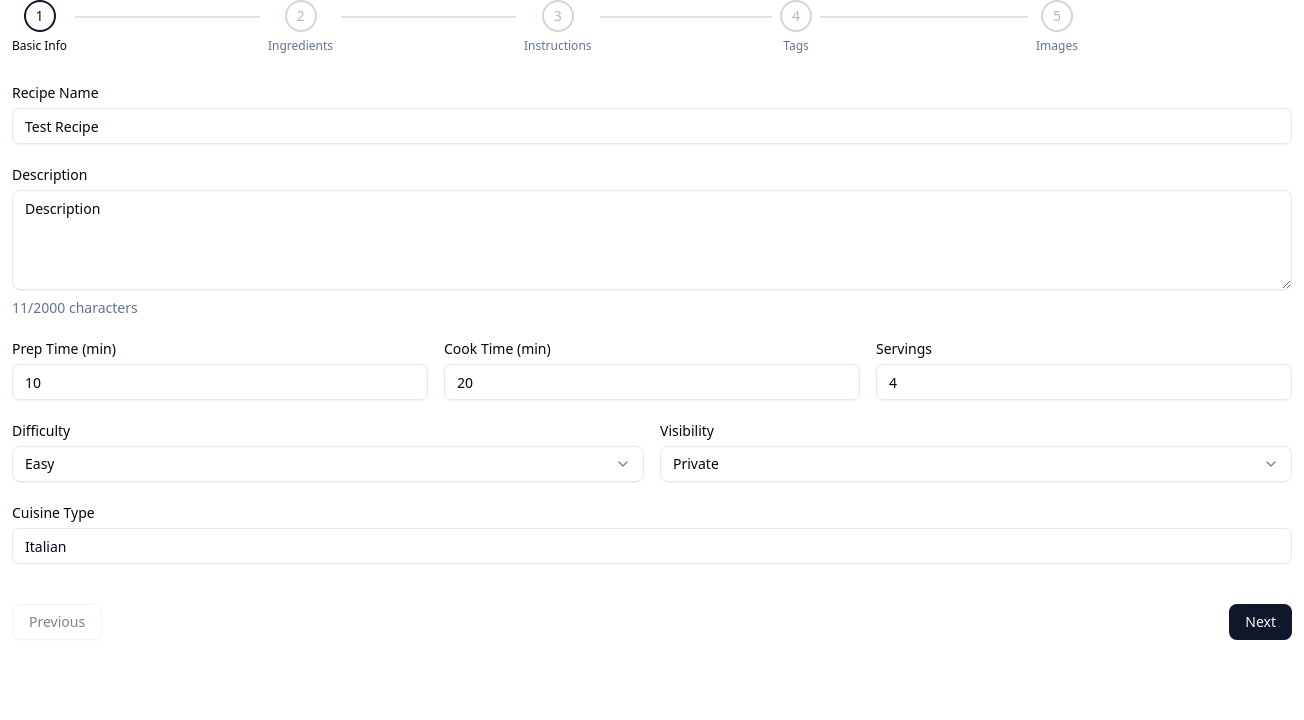
Scenario: RecipeFormWizard › can navigate back with Previous button
The image size is (1304, 720).
Note: Navigate to step 2
Click the button "Next" at [1261, 622], box 1229,604 -> 1292,640
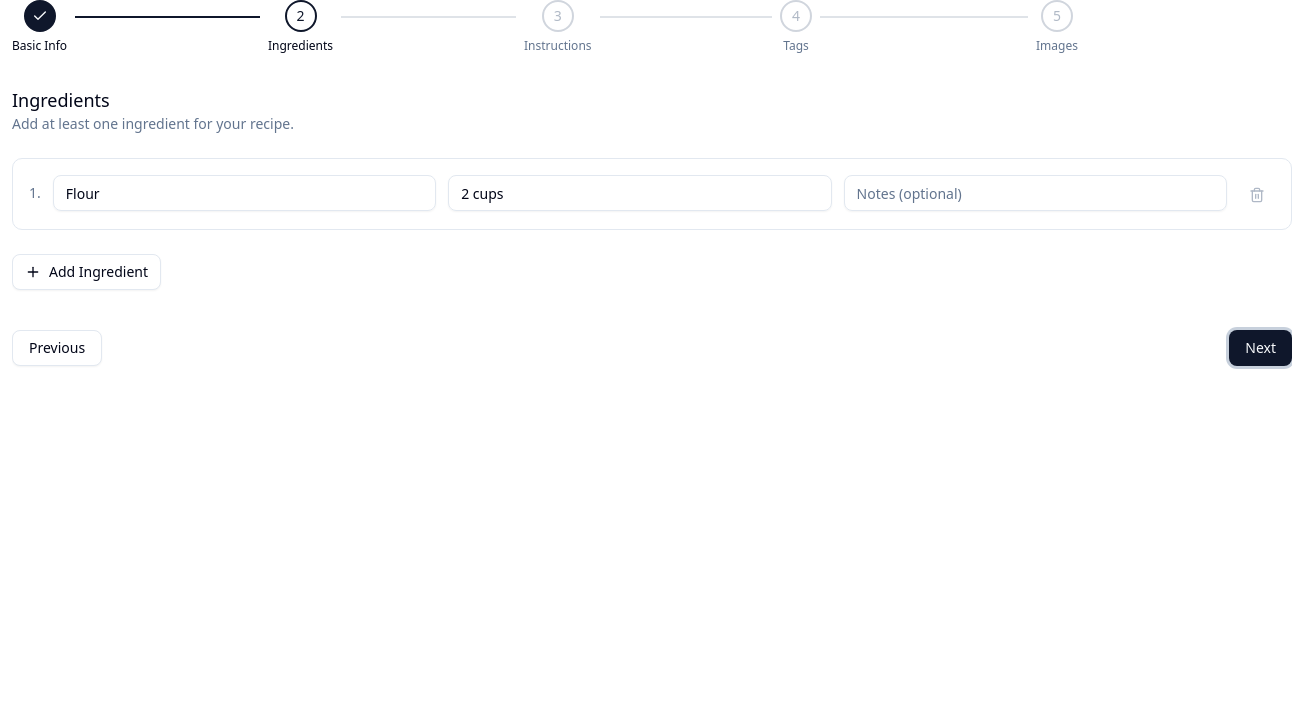
expect the button "Add Ingredient" is shown: met, box 12,254 -> 161,290
Note: Navigate back
Click the button "Previous" at [57, 348], box 12,330 -> 102,366
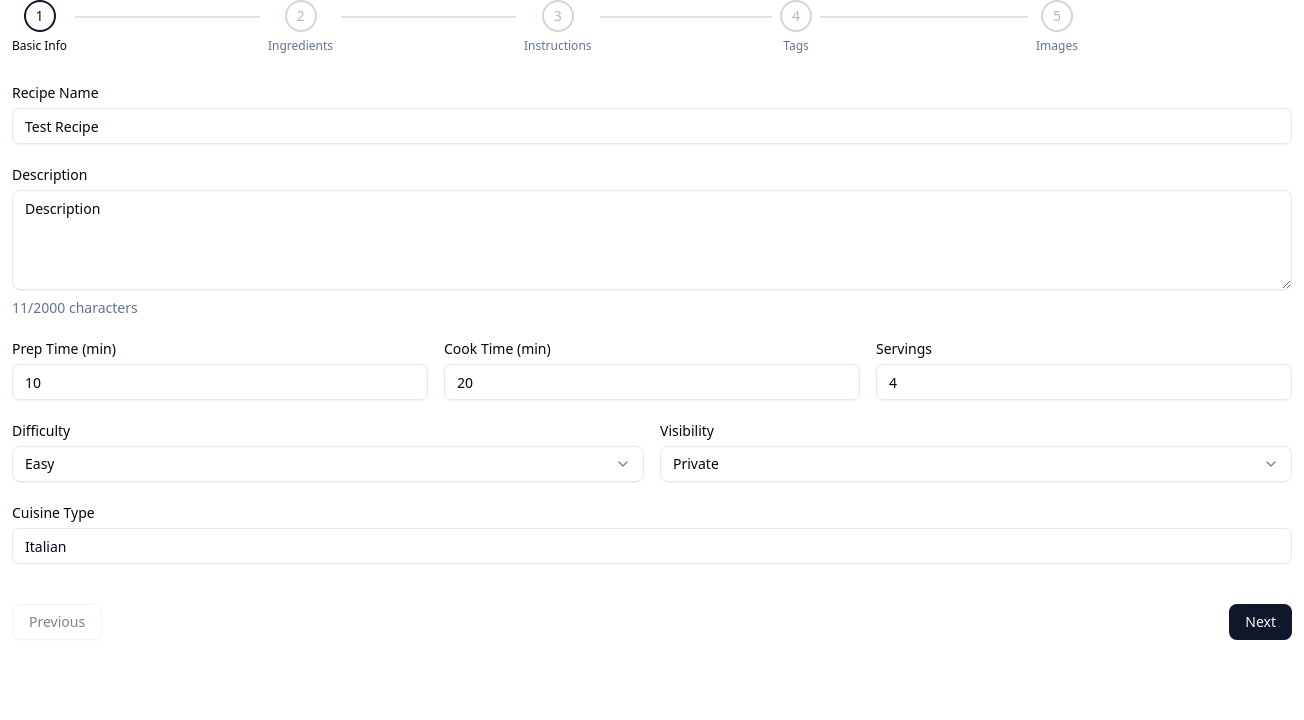
expect the text "Recipe Name" is shown: met, box 12,83 -> 99,102
